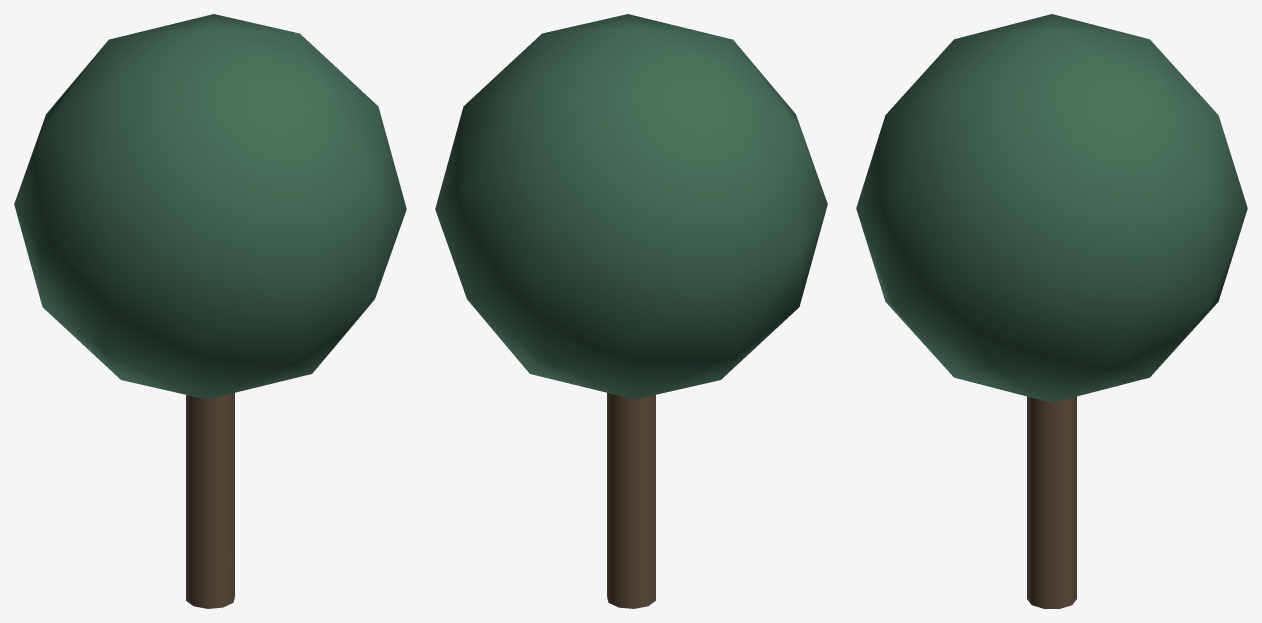
File: tree.glb
The picture shows the model from 3 angles, left to right: view 1: azimuth 30°, elevation 25°; view 2: azimuth 150°, elevation 25°; view 3: azimuth 270°, elevation 25°; orthographic projection.
Parts seen in each view (by area): view 1: tree; view 2: tree; view 3: tree.
Part boxes in pixels (left/top/right/bottom): tree: left=14, top=14, right=406, bottom=608; tree: left=435, top=14, right=827, bottom=608; tree: left=856, top=14, right=1247, bottom=608.
Bounding box in the file's own units: 2.5 × 4 × 2.5.
